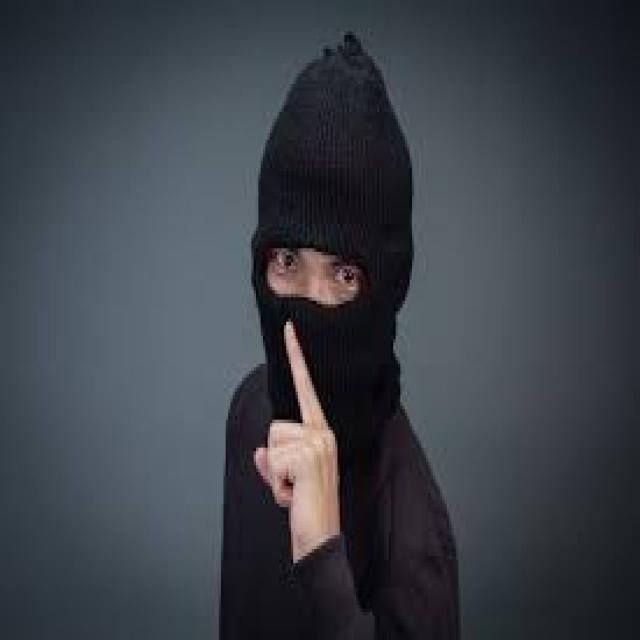masked-intruders: (220, 31, 463, 637)
